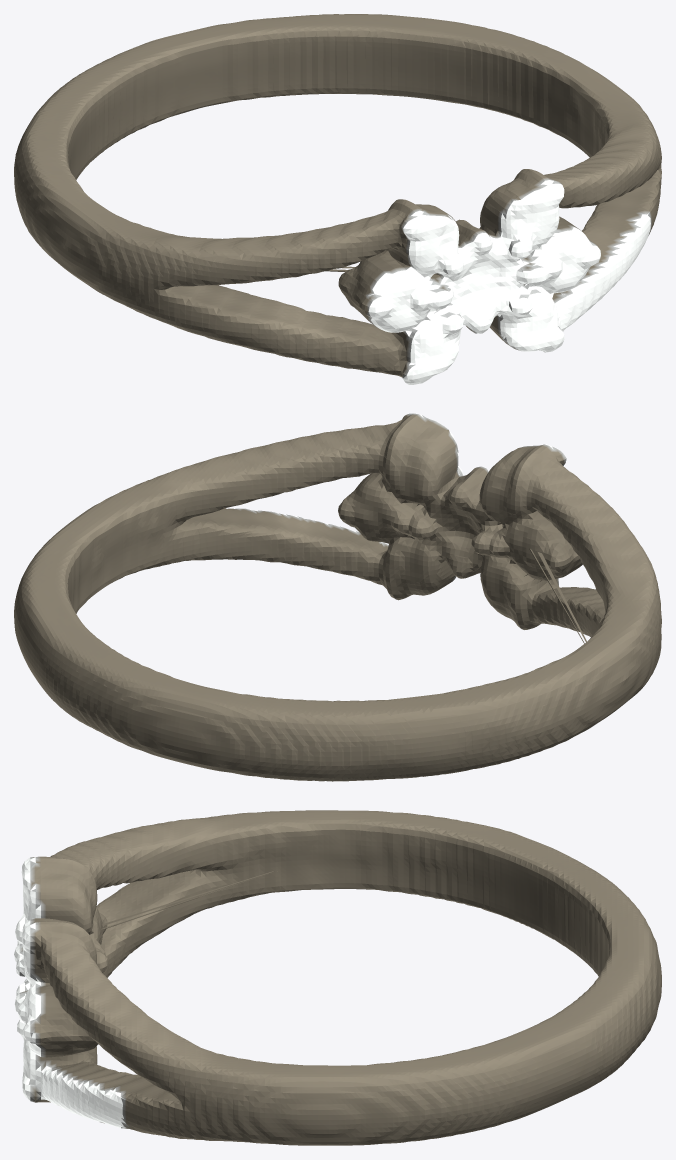
3 renders of one model, top to bottom at view 1: azimuth 30°, elevation 25°; view 2: azimuth 150°, elevation 25°; view 3: azimuth 270°, elevation 25°, orthographic. The views are drawn at different scales.
Visible parts, largest first — view 1: metal, stone; view 2: metal; view 3: metal, stone.
Boxes of the visible parts, <box> form: metal: <box>14,14,661,378</box>; stone: <box>368,180,650,384</box>; metal: <box>14,413,661,781</box>; metal: <box>19,810,661,1145</box>; stone: <box>14,857,125,1127</box>.
Bounding box in the file's own units: 1.96 × 0.5798 × 1.9.
